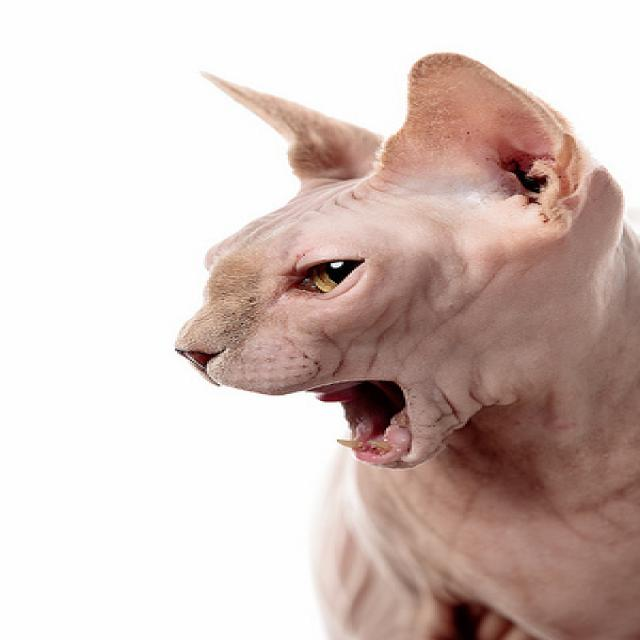Sphynx: (164, 47, 640, 640)
